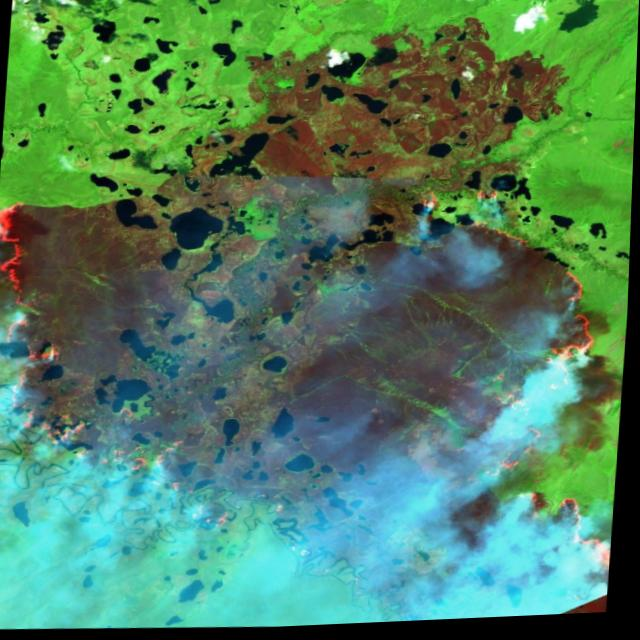fire: (383, 167, 635, 626), (0, 179, 313, 543)
